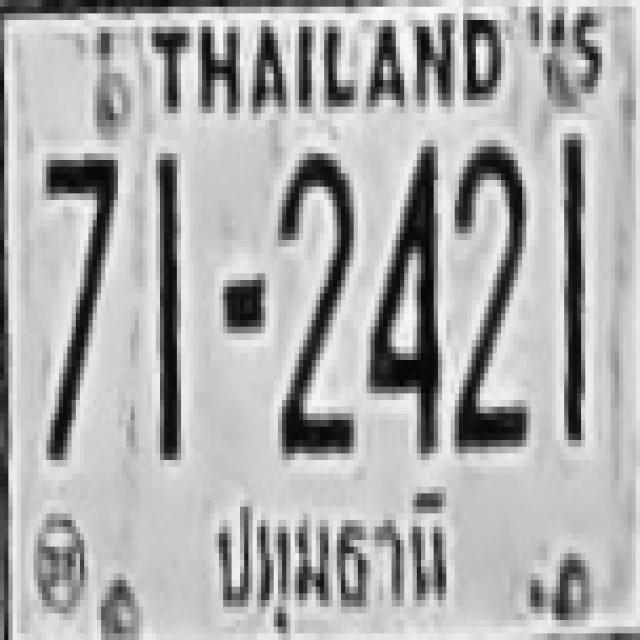1: (154, 150, 179, 457), (560, 133, 581, 440), (560, 133, 581, 407)
2: (276, 147, 352, 453), (451, 140, 522, 447), (451, 137, 522, 423)
4: (366, 140, 438, 447)
7: (42, 150, 114, 457), (42, 150, 114, 357)
PathumThani: (210, 473, 455, 640)
